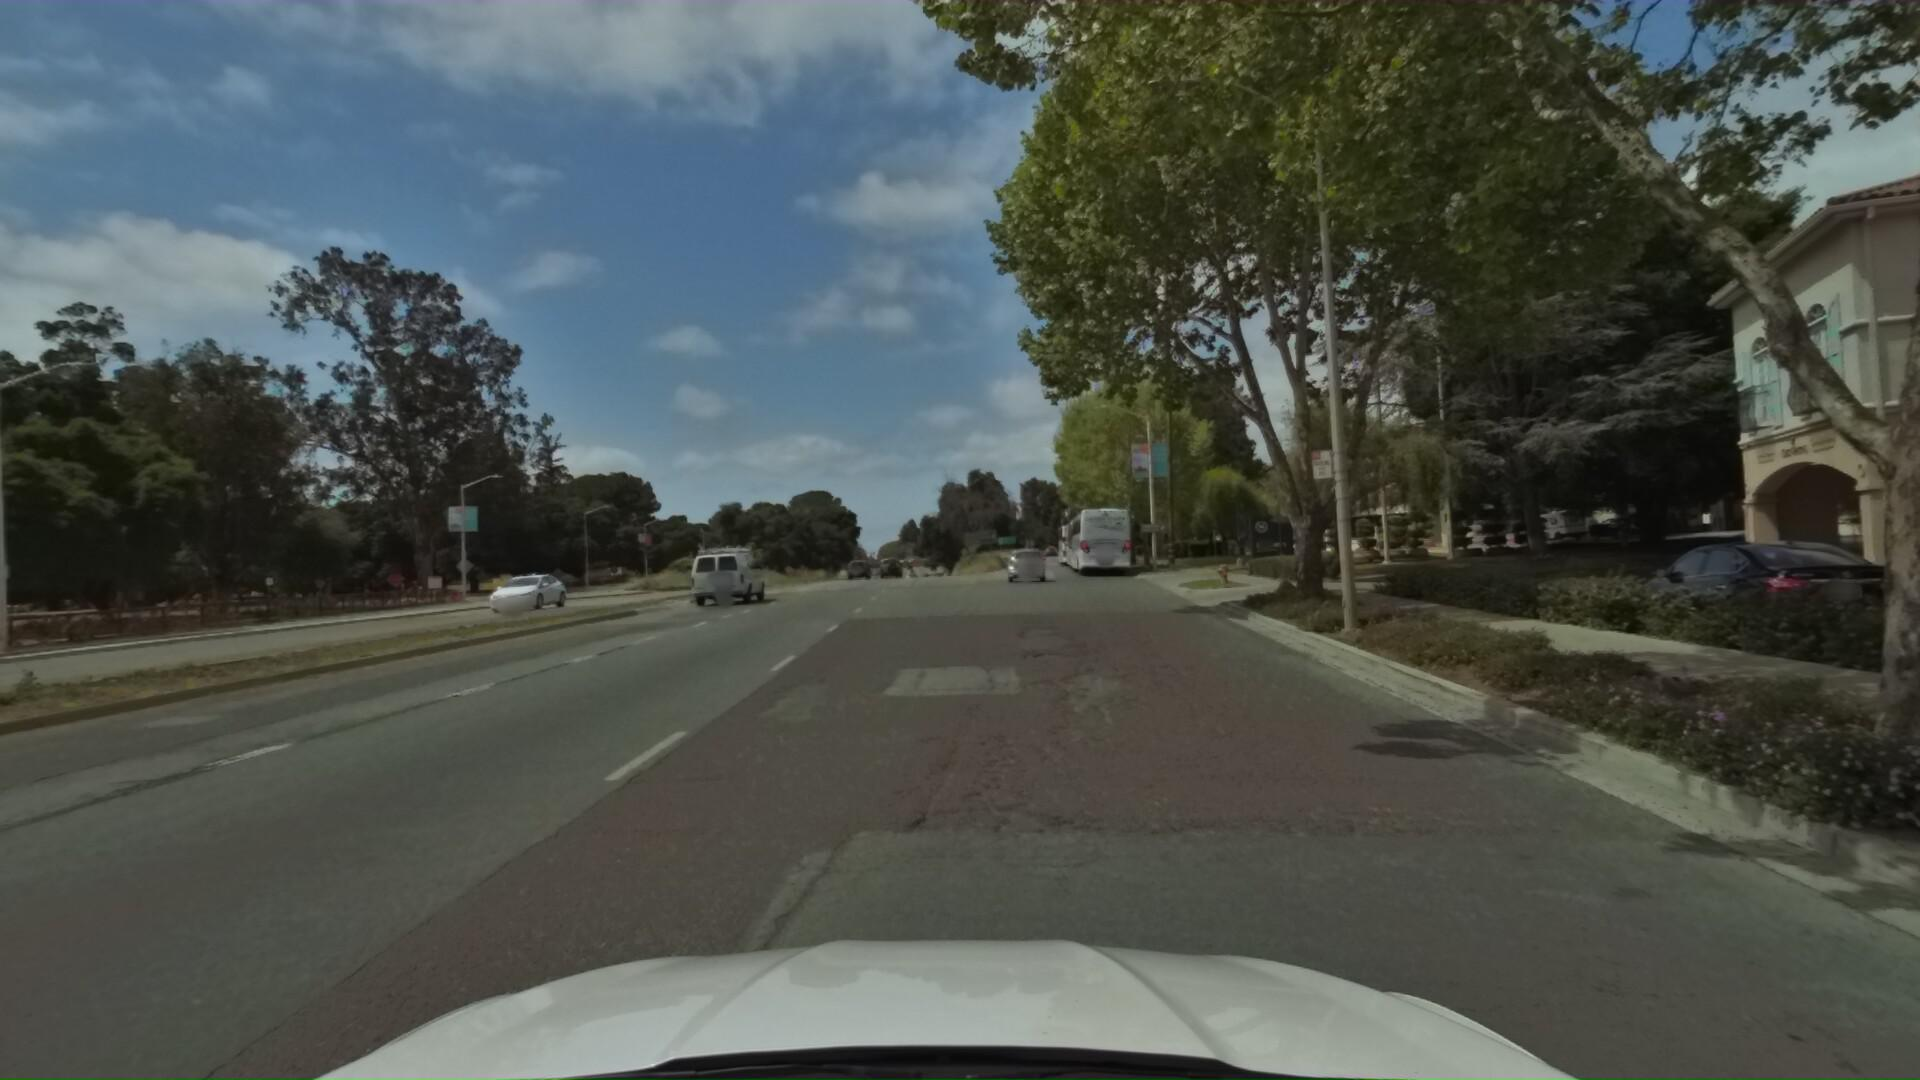bus: (1054, 506, 1133, 582), (1052, 517, 1114, 578), (1044, 524, 1095, 572)
car: (1626, 531, 1920, 670), (686, 545, 766, 613), (467, 572, 556, 618), (1000, 547, 1046, 593), (843, 556, 870, 578), (877, 556, 903, 578)
